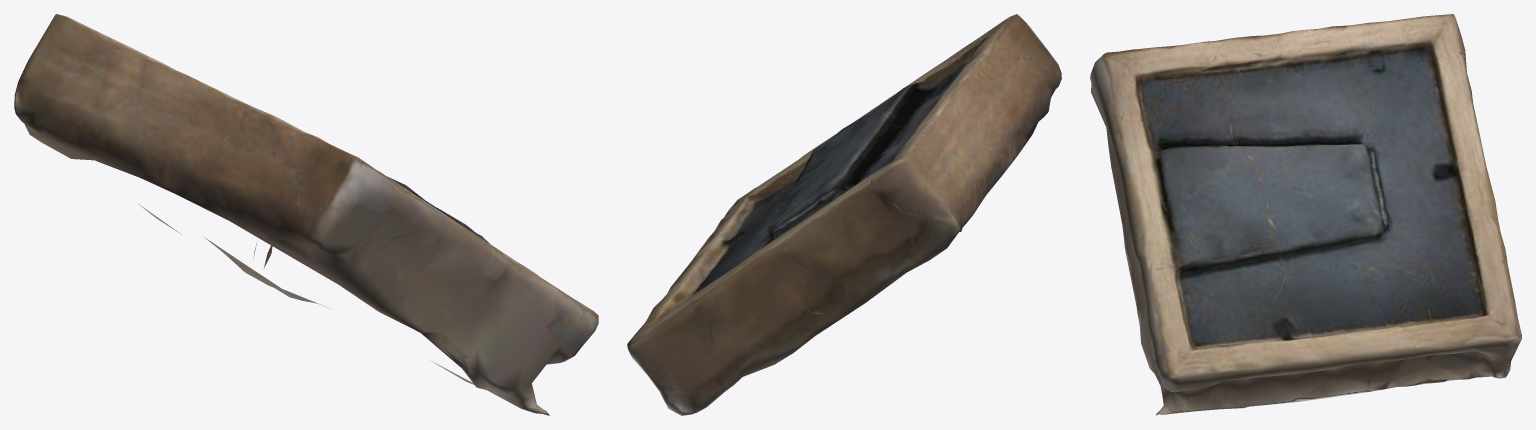
The model's file is hall.glb.
3 views of the same model, side by side, from view 1: azimuth 30°, elevation 25°; view 2: azimuth 150°, elevation 25°; view 3: azimuth 270°, elevation 25° (orthographic). The views are drawn at different scales.
Size of the model in its own units: 0.7823 by 0.6111 by 0.8538.
Materials: 1 (1 with a texture image).
